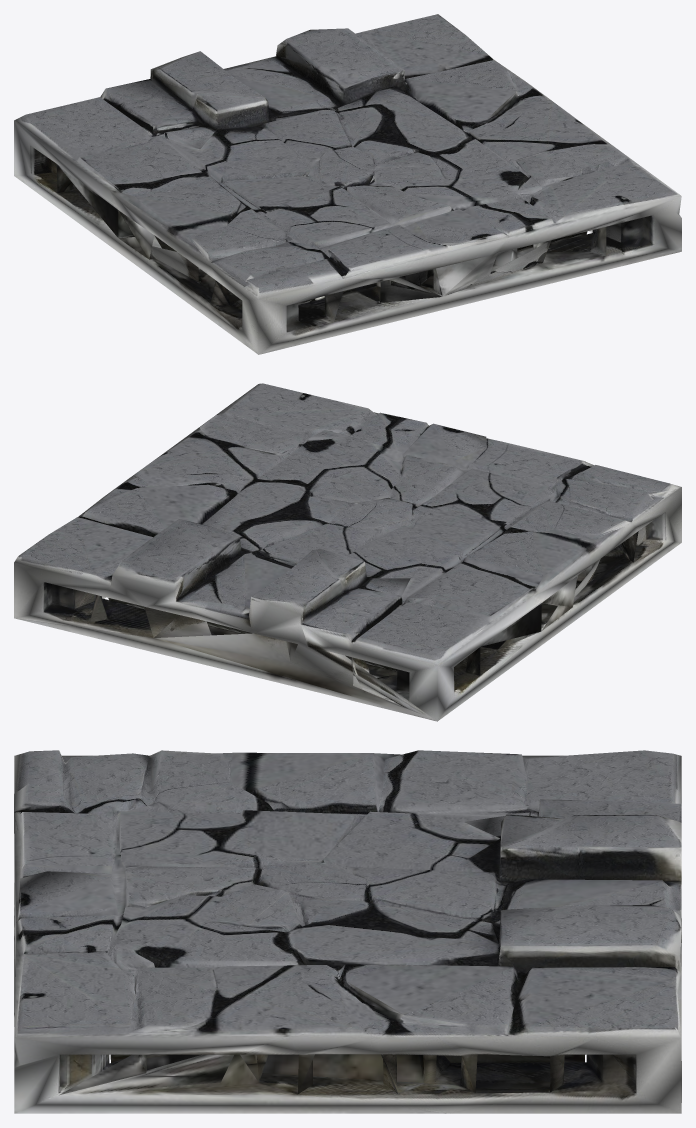
File: prop-den-floor-b.glb
3 renders of one model, top to bottom at view 1: azimuth 30°, elevation 25°; view 2: azimuth 150°, elevation 25°; view 3: azimuth 270°, elevation 25°, orthographic. The views are drawn at different scales.
Bounding box in the file's own units: 2 × 0.3594 × 2.
Materials: 1 (1 with a texture image).
